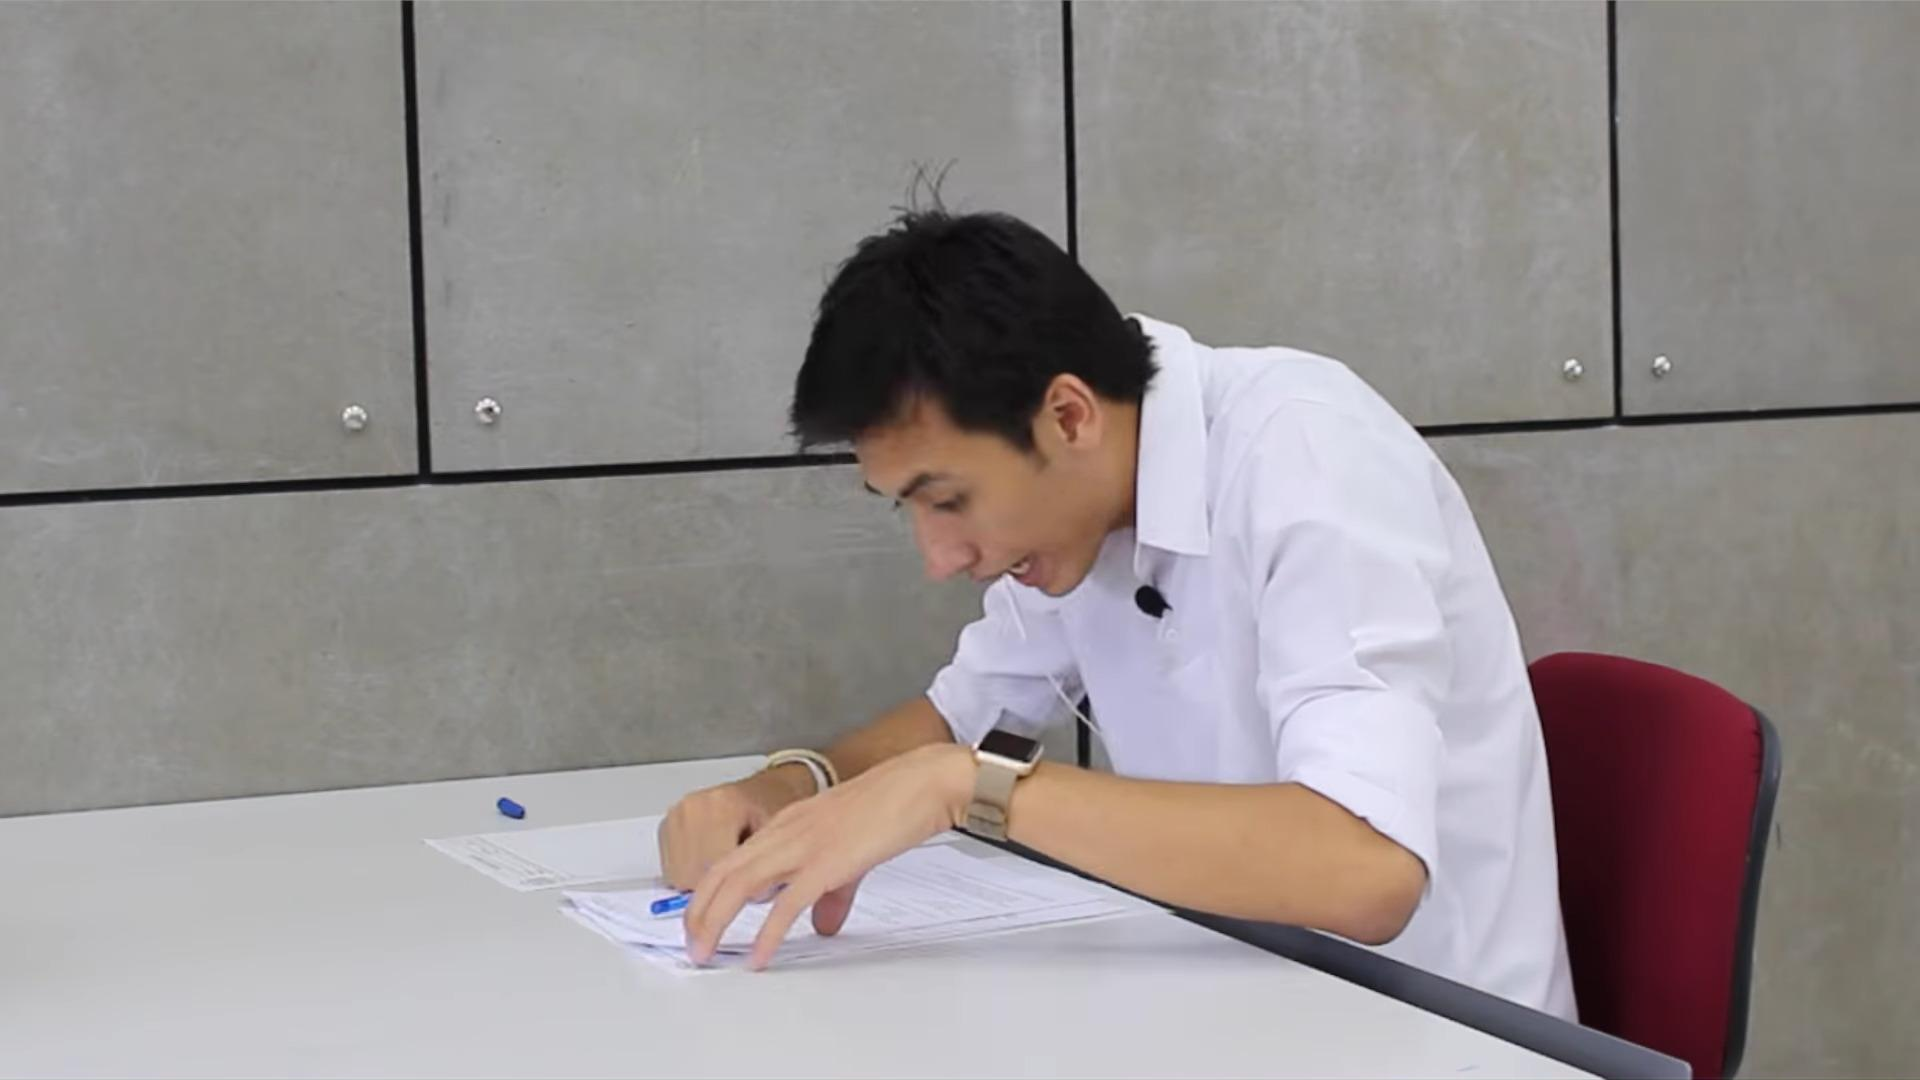good: (405, 175, 1604, 1042)
